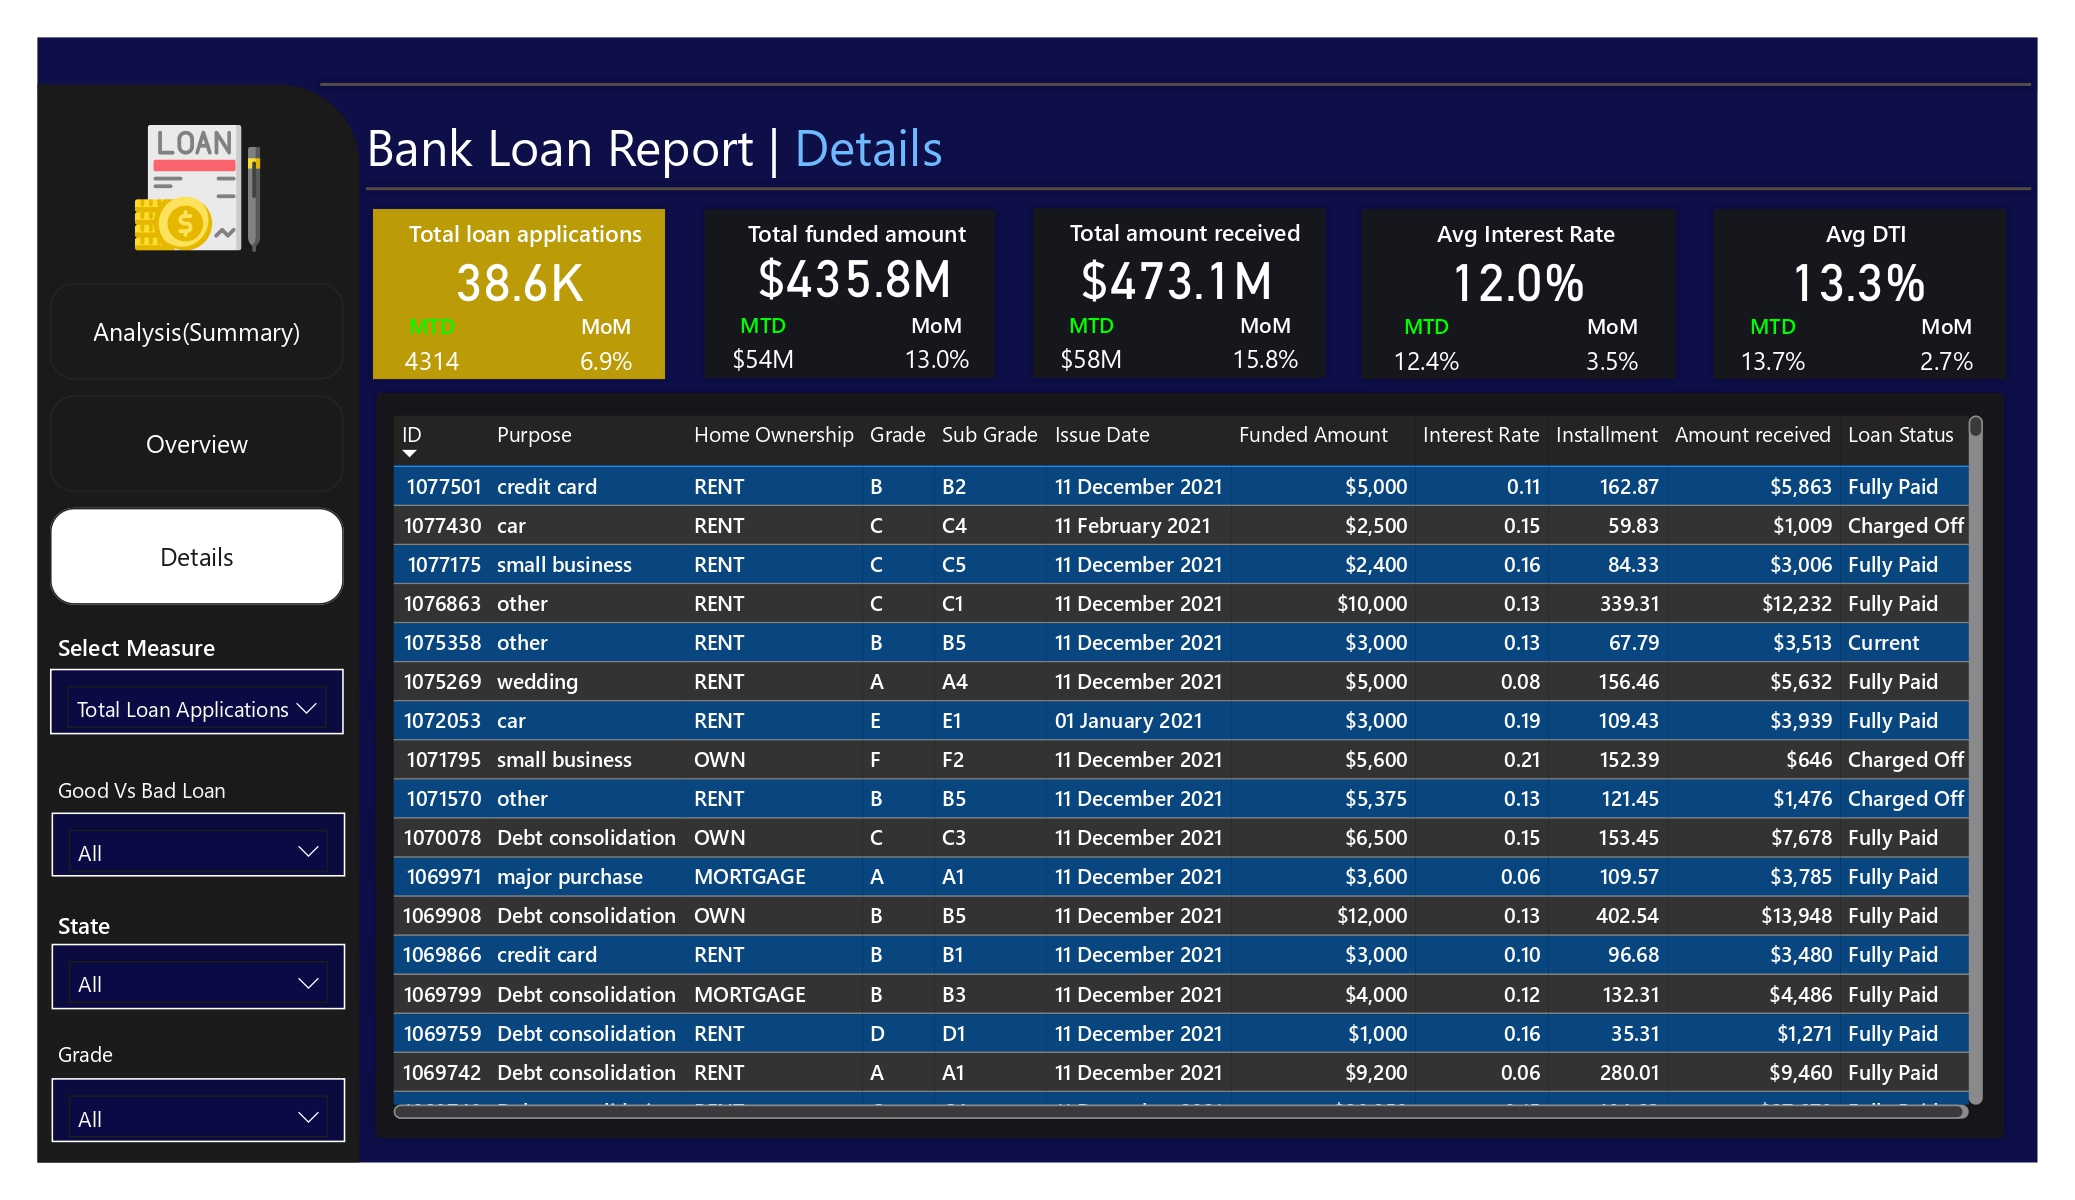

This screenshot's page, from the dashboard's own definition file:
{"tool":"powerbi","page":{"name":"Details","canvas":[1280,720],"ordinal":2},"visuals":[{"type":"shape","box":[0,30,205.6,690],"z":0},{"type":"shape","box":[632.9,105,194.8,116.9],"z":0,"group":"g3"},{"type":"shape","box":[211.4,105.7,194.8,116.9],"z":0,"group":"g1"},{"type":"shape","box":[422.5,105.7,194.3,116.2],"z":0,"group":"g2"},{"type":"shape","box":[843.7,105.7,208.9,117.3],"z":0,"group":"g4"},{"type":"shape","box":[1068.6,105.7,194.8,116.9],"z":0,"group":"g5"},{"type":"shape","box":[176.7,0,1103.3,60],"z":1000},{"type":"card","fields":{"Values":["bank_loan.Total Funded Amount"]},"box":[438.1,123.7,168,55.3],"z":1000,"group":"g2"},{"type":"card","fields":{"Values":["bank_loan.Total amount received"]},"box":[649.1,125.4,160,55.7],"z":1000,"group":"g3"},{"type":"card","fields":{"Values":["bank_loan.Avg DTI"]},"box":[1084.8,126.1,160,55.7],"z":1000,"group":"g5"},{"type":"card","fields":{"Values":["bank_loan.Avg Interest Rate"]},"box":[861.1,126.2,171.6,55.9],"z":1000,"group":"g4"},{"type":"card","fields":{"Values":["bank_loan.Total Loan Applications"]},"box":[232.3,128,153,51.5],"z":1000,"group":"g1"},{"type":"shape","box":[205.6,65.6,1074.4,61.1],"z":2000},{"type":"textbox","box":[653.8,109.2,161.4,34.8],"z":2000,"group":"g3"},{"type":"textbox","box":[232.3,109.9,161.4,34.8],"z":2000,"group":"g1"},{"type":"textbox","box":[443.3,109.9,161,34.6],"z":2000,"group":"g2"},{"type":"textbox","box":[866.1,109.9,173.1,34.9],"z":2000,"group":"g4"},{"type":"textbox","box":[1089.5,109.9,161.4,34.8],"z":2000,"group":"g5"},{"type":"textbox","box":[205,41.7,586.7,81.7],"z":3000},{"type":"card","title":"MTD","fields":{"Values":["bank_loan.MTD Total amount received"]},"box":[632.9,174.6,83.5,47.3],"z":3000,"group":"g3"},{"type":"card","title":"MTD","fields":{"Values":["bank_loan.MTD Funded Amount"]},"box":[422.5,174.9,83.3,47],"z":3000,"group":"g2"},{"type":"card","title":"MTD","fields":{"Values":["bank_loan.MTD Loan Applications"]},"box":[211.4,175.3,83.5,47.3],"z":3000,"group":"g1"},{"type":"card","title":"MTD","fields":{"Values":["bank_loan.MTD Avg DTI"]},"box":[1068.6,175.3,83.5,47.3],"z":3000,"group":"g5"},{"type":"card","title":"MTD","fields":{"Values":["bank_loan.MTD Avg Interest Rate"]},"box":[843.7,175.5,89.5,47.5],"z":3000,"group":"g4"},{"type":"textbox","box":[8.3,467.7,160,33.3],"z":3000,"group":"g6"},{"type":"card","title":"MoM","fields":{"Values":["bank_loan.MoM Total Amount Received"]},"box":[744.2,174.6,83.5,47.3],"z":4000,"group":"g3"},{"type":"card","title":"MoM","fields":{"Values":["bank_loan.MoM Total Funded Amount"]},"box":[533.5,174.9,83.3,47],"z":4000,"group":"g2"},{"type":"card","title":"MoM","fields":{"Values":["bank_loan.Mom Loan Applications"]},"box":[322.7,175.3,83.5,47.3],"z":4000,"group":"g1"},{"type":"card","title":"MoM","fields":{"Values":["bank_loan.MoM Avg DTI"]},"box":[1179.9,175.3,83.5,47.3],"z":4000,"group":"g5"},{"type":"card","title":"MoM","fields":{"Values":["bank_loan.MoM Avg Interest Rate"]},"box":[963.1,175.5,89.5,47.5],"z":4000,"group":"g4"},{"type":"shape","box":[213.3,223.3,1050,485],"z":4000},{"type":"group","id":"g1","title":"Group 1","box":[211.4,105.7,194.8,116.9],"z":5000},{"type":"group","id":"g2","title":"Group 1","box":[422.5,105.7,194,116],"z":6000},{"type":"group","id":"g3","title":"Group 1","box":[632.9,105,194.4,116.7],"z":7000},{"type":"group","id":"g4","title":"Group 1","box":[843.7,105.7,208.6,117.1],"z":8000},{"type":"group","id":"g5","title":"Group 1","box":[1068.6,105.7,195.7,115.7],"z":9000},{"type":"tableEx","fields":{"Values":["bank_loan.id","bank_loan.purpose","bank_loan.home_ownership","bank_loan.grade","bank_loan.sub_grade","bank_loan.issue_date","bank_loan.Total Funded Amount","Sum(bank_loan.int_rate)","Sum(bank_loan.installment)","bank_loan.Total amount received","bank_loan.loan_status"]},"box":[221.7,236.7,1028.3,460],"z":10000},{"type":"image","box":[56.7,46.7,91.7,98.3],"z":11000},{"type":"slicer","fields":{"Values":["bank_loan.Good vs bad Loan"]},"box":[8.9,496,188.9,41.1],"z":11000,"group":"g6"},{"type":"group","id":"g6","title":"Group 2","box":[8.3,375,190,333.3],"z":12000},{"type":"slicer","fields":{"Values":["bank_loan.address_state"]},"box":[8.9,580.5,188.9,41.1],"z":12000,"group":"g6"},{"type":"pageNavigator","box":[8.3,156.7,188.3,206.7],"z":13000},{"type":"slicer","fields":{"Values":["bank_loan.grade"]},"box":[8.9,666,188.9,41.1],"z":13000,"group":"g6"},{"type":"textbox","box":[8.4,552.7,104.6,36.9],"z":14000,"group":"g6"},{"type":"textbox","box":[8.4,636.5,160,33.1],"z":15000,"group":"g6"},{"type":"slicer","fields":{"Values":["Select From Slicer.Select From Slicer"]},"box":[8.3,404.4,188.3,41.7],"z":16000,"group":"g6"},{"type":"textbox","box":[8.4,375,130.8,37.7],"z":17000,"group":"g6"}]}

Visuals, with their boxes on the page's 1280x720 design canvas (x1, y1, x2, y2). These are canvas units, not pixel positions in the 2075x1200 screenshot, which may show the page scaled, cropped or inside an application window:
shape: locate(0, 30, 206, 720)
shape: locate(633, 105, 828, 222)
shape: locate(211, 106, 406, 223)
shape: locate(422, 106, 617, 222)
shape: locate(844, 106, 1053, 223)
shape: locate(1069, 106, 1263, 223)
shape: locate(177, 0, 1280, 60)
card - bank_loan.Total Funded Amount: locate(438, 124, 606, 179)
card - bank_loan.Total amount received: locate(649, 125, 809, 181)
card - bank_loan.Avg DTI: locate(1085, 126, 1245, 182)
card - bank_loan.Avg Interest Rate: locate(861, 126, 1033, 182)
card - bank_loan.Total Loan Applications: locate(232, 128, 385, 180)
shape: locate(206, 66, 1280, 127)
textbox: locate(654, 109, 815, 144)
textbox: locate(232, 110, 394, 145)
textbox: locate(443, 110, 604, 144)
textbox: locate(866, 110, 1039, 145)
textbox: locate(1090, 110, 1251, 145)
textbox: locate(205, 42, 792, 123)
"MTD" card: locate(633, 175, 716, 222)
"MTD" card: locate(422, 175, 506, 222)
"MTD" card: locate(211, 175, 295, 223)
"MTD" card: locate(1069, 175, 1152, 223)
"MTD" card: locate(844, 176, 933, 223)
textbox: locate(8, 468, 168, 501)
"MoM" card: locate(744, 175, 828, 222)
"MoM" card: locate(534, 175, 617, 222)
"MoM" card: locate(323, 175, 406, 223)
"MoM" card: locate(1180, 175, 1263, 223)
"MoM" card: locate(963, 176, 1053, 223)
shape: locate(213, 223, 1263, 708)
"Group 1" group: locate(211, 106, 406, 223)
"Group 1" group: locate(422, 106, 616, 222)
"Group 1" group: locate(633, 105, 827, 222)
"Group 1" group: locate(844, 106, 1052, 223)
"Group 1" group: locate(1069, 106, 1264, 221)
tableEx - bank_loan.id x bank_loan.purpose: locate(222, 237, 1250, 697)
image: locate(57, 47, 148, 145)
slicer - bank_loan.Good vs bad Loan: locate(9, 496, 198, 537)
"Group 2" group: locate(8, 375, 198, 708)
slicer - bank_loan.address_state: locate(9, 580, 198, 622)
pageNavigator: locate(8, 157, 197, 363)
slicer - bank_loan.grade: locate(9, 666, 198, 707)
textbox: locate(8, 553, 113, 590)
textbox: locate(8, 636, 168, 670)
slicer - Select From Slicer.Select From Slicer: locate(8, 404, 197, 446)
textbox: locate(8, 375, 139, 413)
